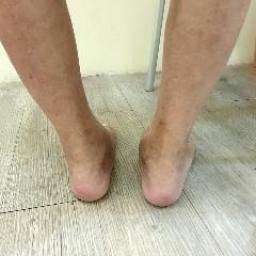Back View -Both Feet-: (30, 100, 223, 222)
